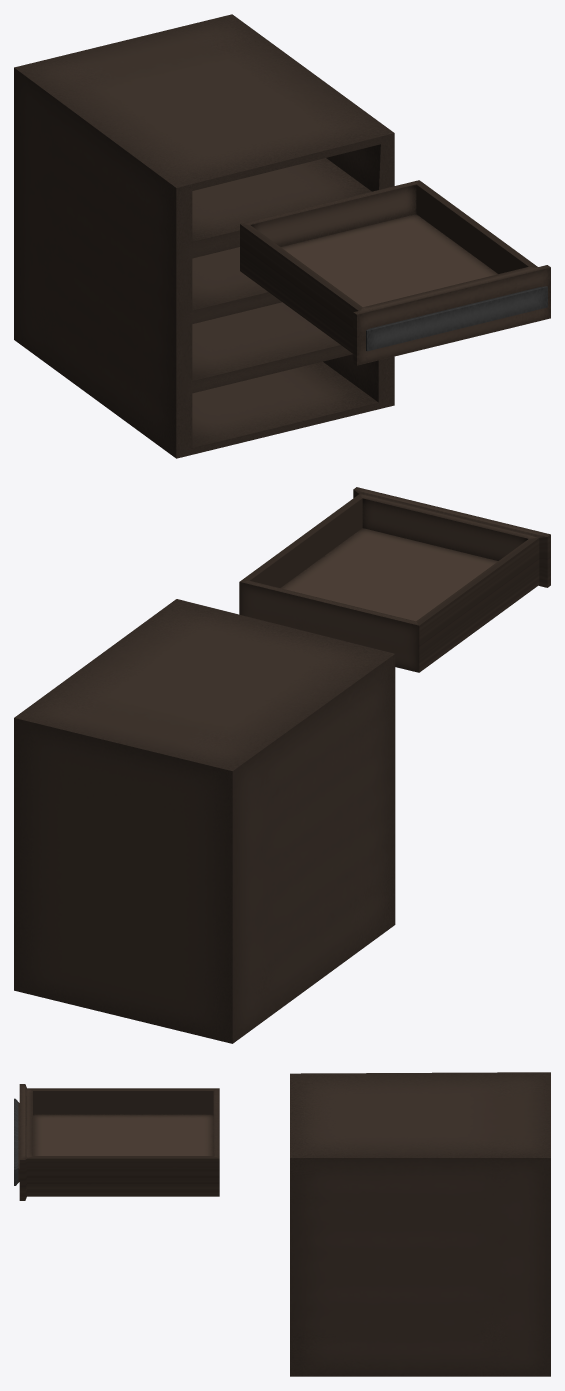
File: apothocary.fbx
3 renders of one model, top to bottom at view 1: azimuth 30°, elevation 25°; view 2: azimuth 150°, elevation 25°; view 3: azimuth 270°, elevation 25°, orthographic. The views are drawn at different scales.
Parts seen in each view (by area): view 1: Cube.040, Cube.043; view 2: Cube.040, Cube.043; view 3: Cube.040, Cube.043.
Part boxes in pixels (bbox=[...]): Cube.040: bbox=[14, 14, 394, 458]; Cube.043: bbox=[240, 180, 550, 365]; Cube.040: bbox=[14, 599, 395, 1043]; Cube.043: bbox=[239, 487, 550, 672]; Cube.040: bbox=[290, 1072, 550, 1376]; Cube.043: bbox=[14, 1084, 219, 1200].
Bounding box in the file's own units: 70.86 × 84.47 × 188.
Materials: 3 (3 with a texture image).
